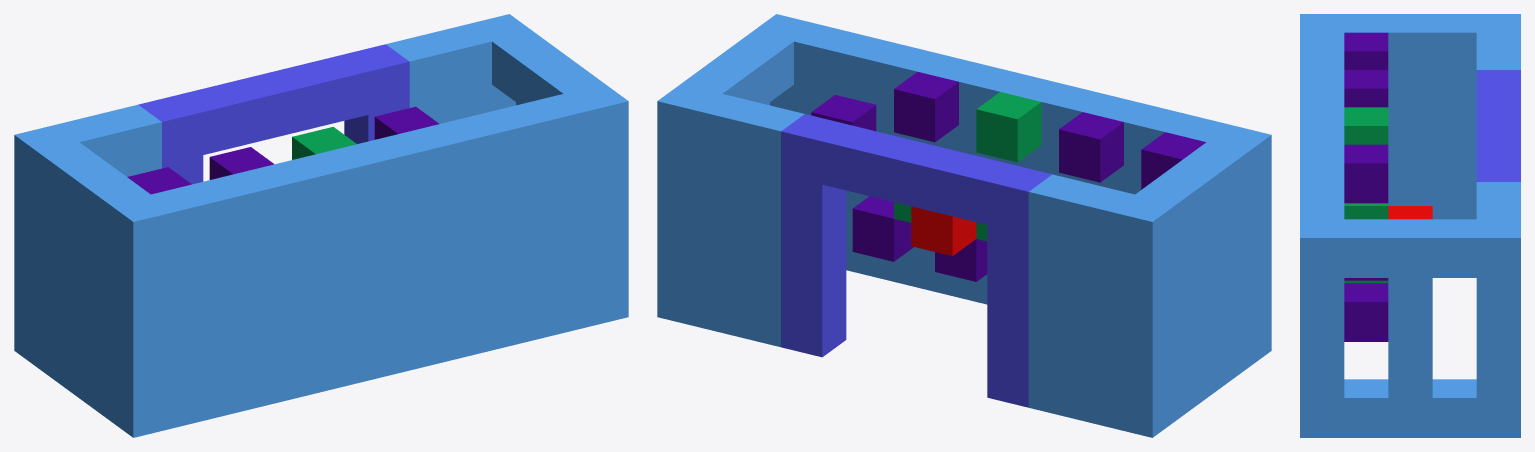
The model's file is city_store_0.cube.obj.
The picture shows the model from 3 angles, left to right: view 1: azimuth 30°, elevation 25°; view 2: azimuth 150°, elevation 25°; view 3: azimuth 270°, elevation 25°; orthographic projection. The views are drawn at different scales.
Size of the model in its own units: 12 by 5 by 5.
1 material, 1 textured.
